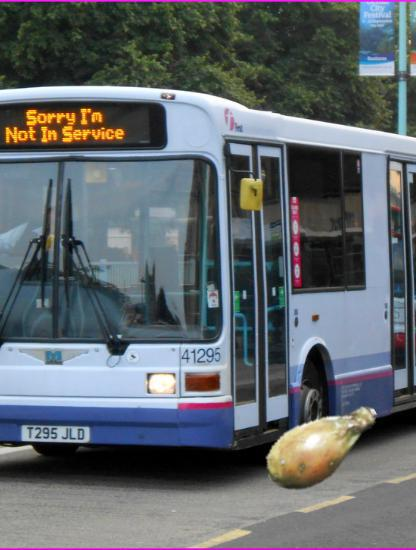Cactus: (261, 384, 386, 509)
